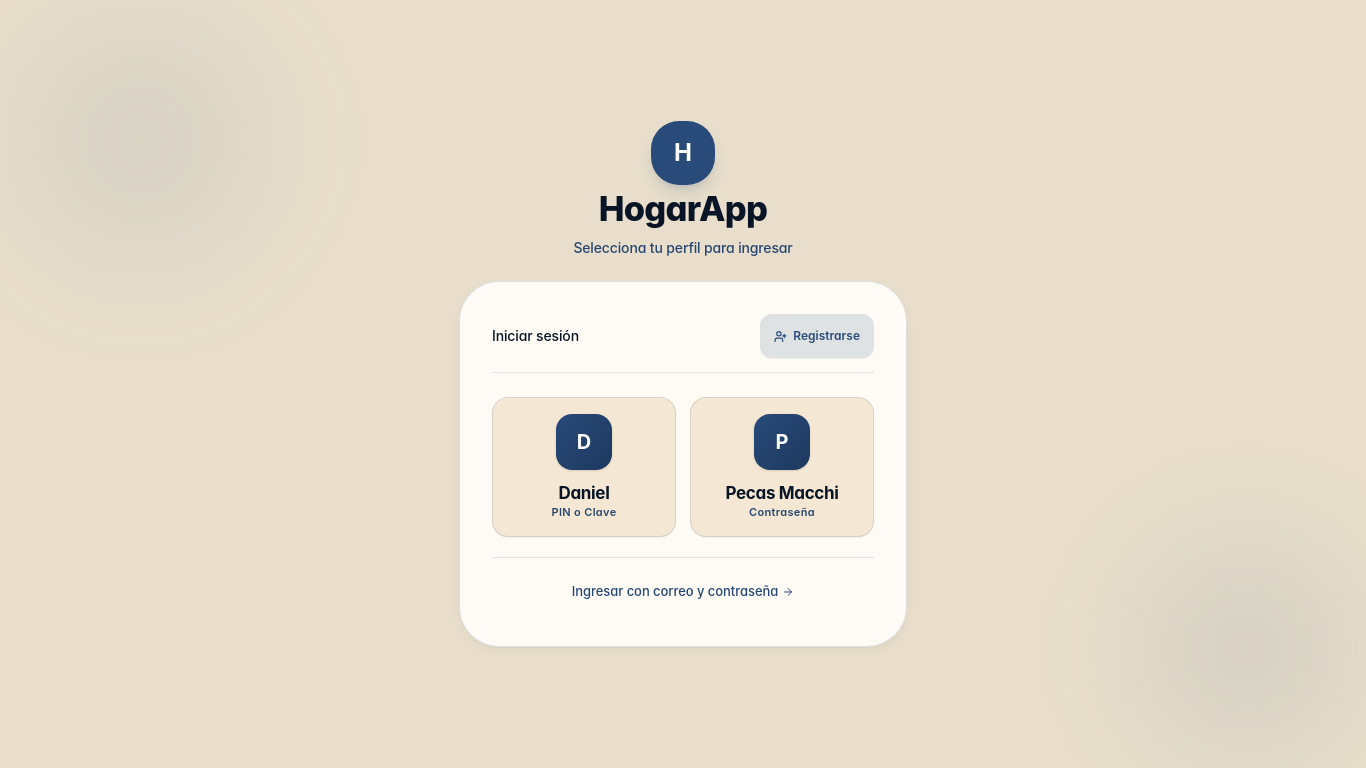
Test case: LoginForm Component Interaction Tests › switches to traditional view when clicking "Ingresar con correo y contraseña"
The width and height of the screenshot is (1366, 768).
Click the button "Ingresar con correo y contraseña" at (683, 592), box [492,570,874,614]
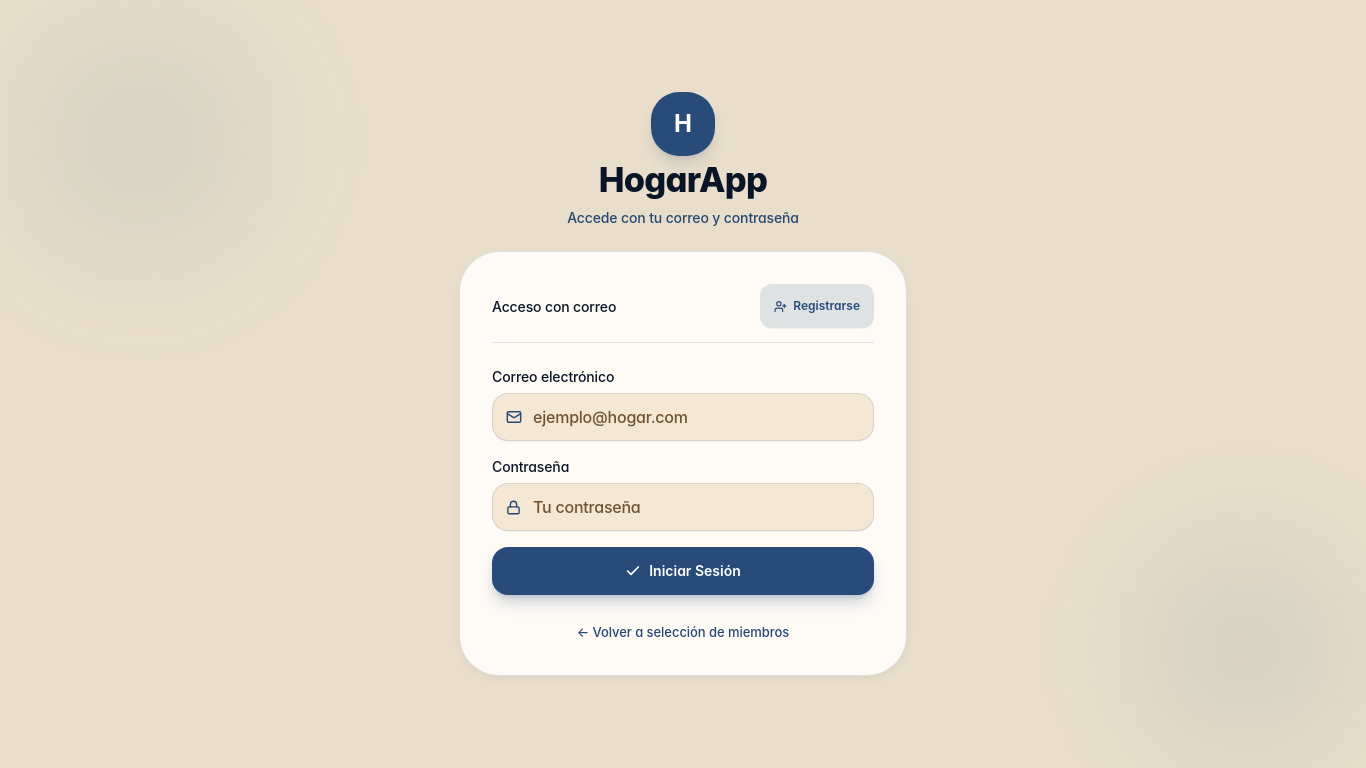
Result: the field with placeholder "ejemplo@hogar.com" is shown at [492,393,874,441]
Result: the password field with placeholder "Tu contraseña" is shown at [492,483,874,532]
